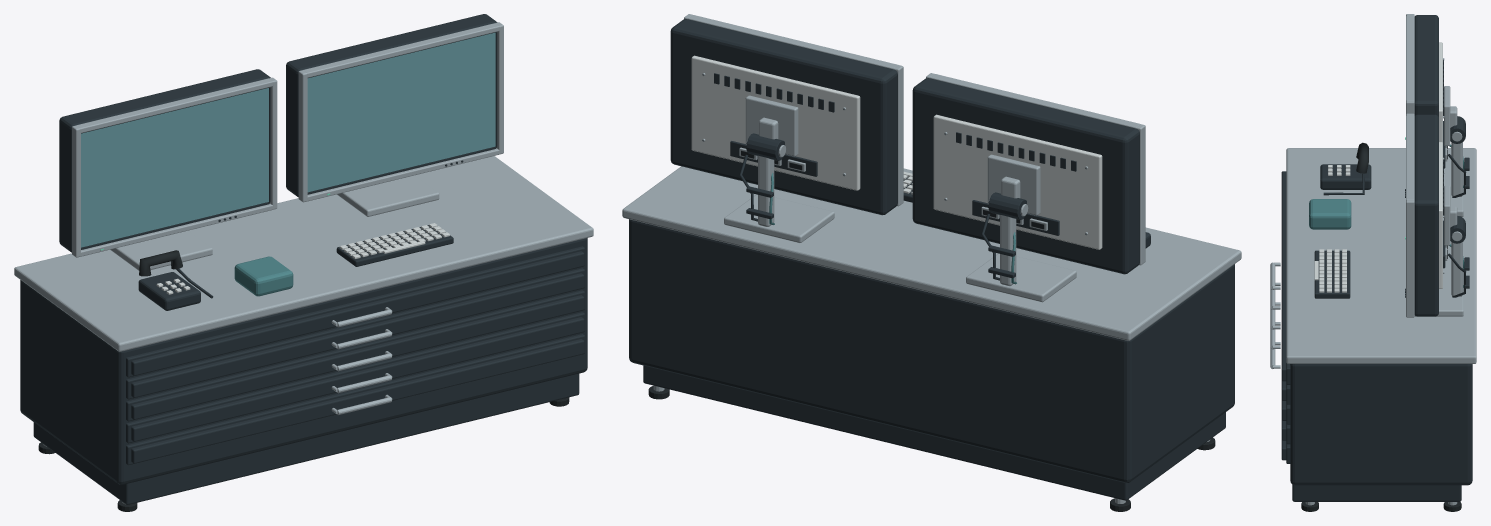
Rendered from RD_CentralOperatorDesk.fbx.
The picture shows the model from 3 angles, left to right: view 1: azimuth 30°, elevation 25°; view 2: azimuth 150°, elevation 25°; view 3: azimuth 270°, elevation 25°; orthographic projection. The views are drawn at different scales.
Parts seen in each view (by area): view 1: RD_CentralOperatorDesk; view 2: RD_CentralOperatorDesk; view 3: RD_CentralOperatorDesk.
Part boxes in pixels (bbox=[...]): RD_CentralOperatorDesk: bbox=[14, 14, 593, 511]; RD_CentralOperatorDesk: bbox=[622, 14, 1241, 511]; RD_CentralOperatorDesk: bbox=[1270, 14, 1476, 511].
Bounding box in the file's own units: 222 × 152 × 92.65.
